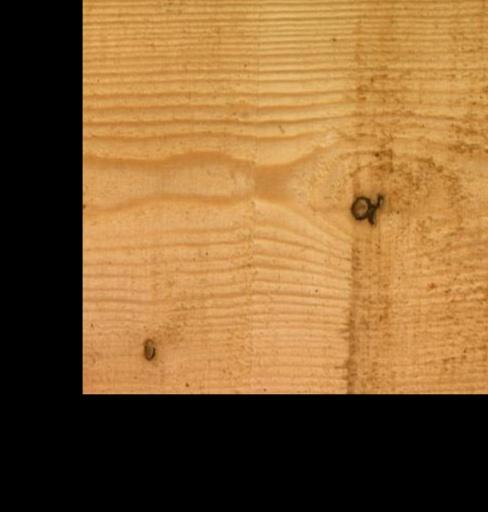dry_knot: (141, 335, 156, 361)
